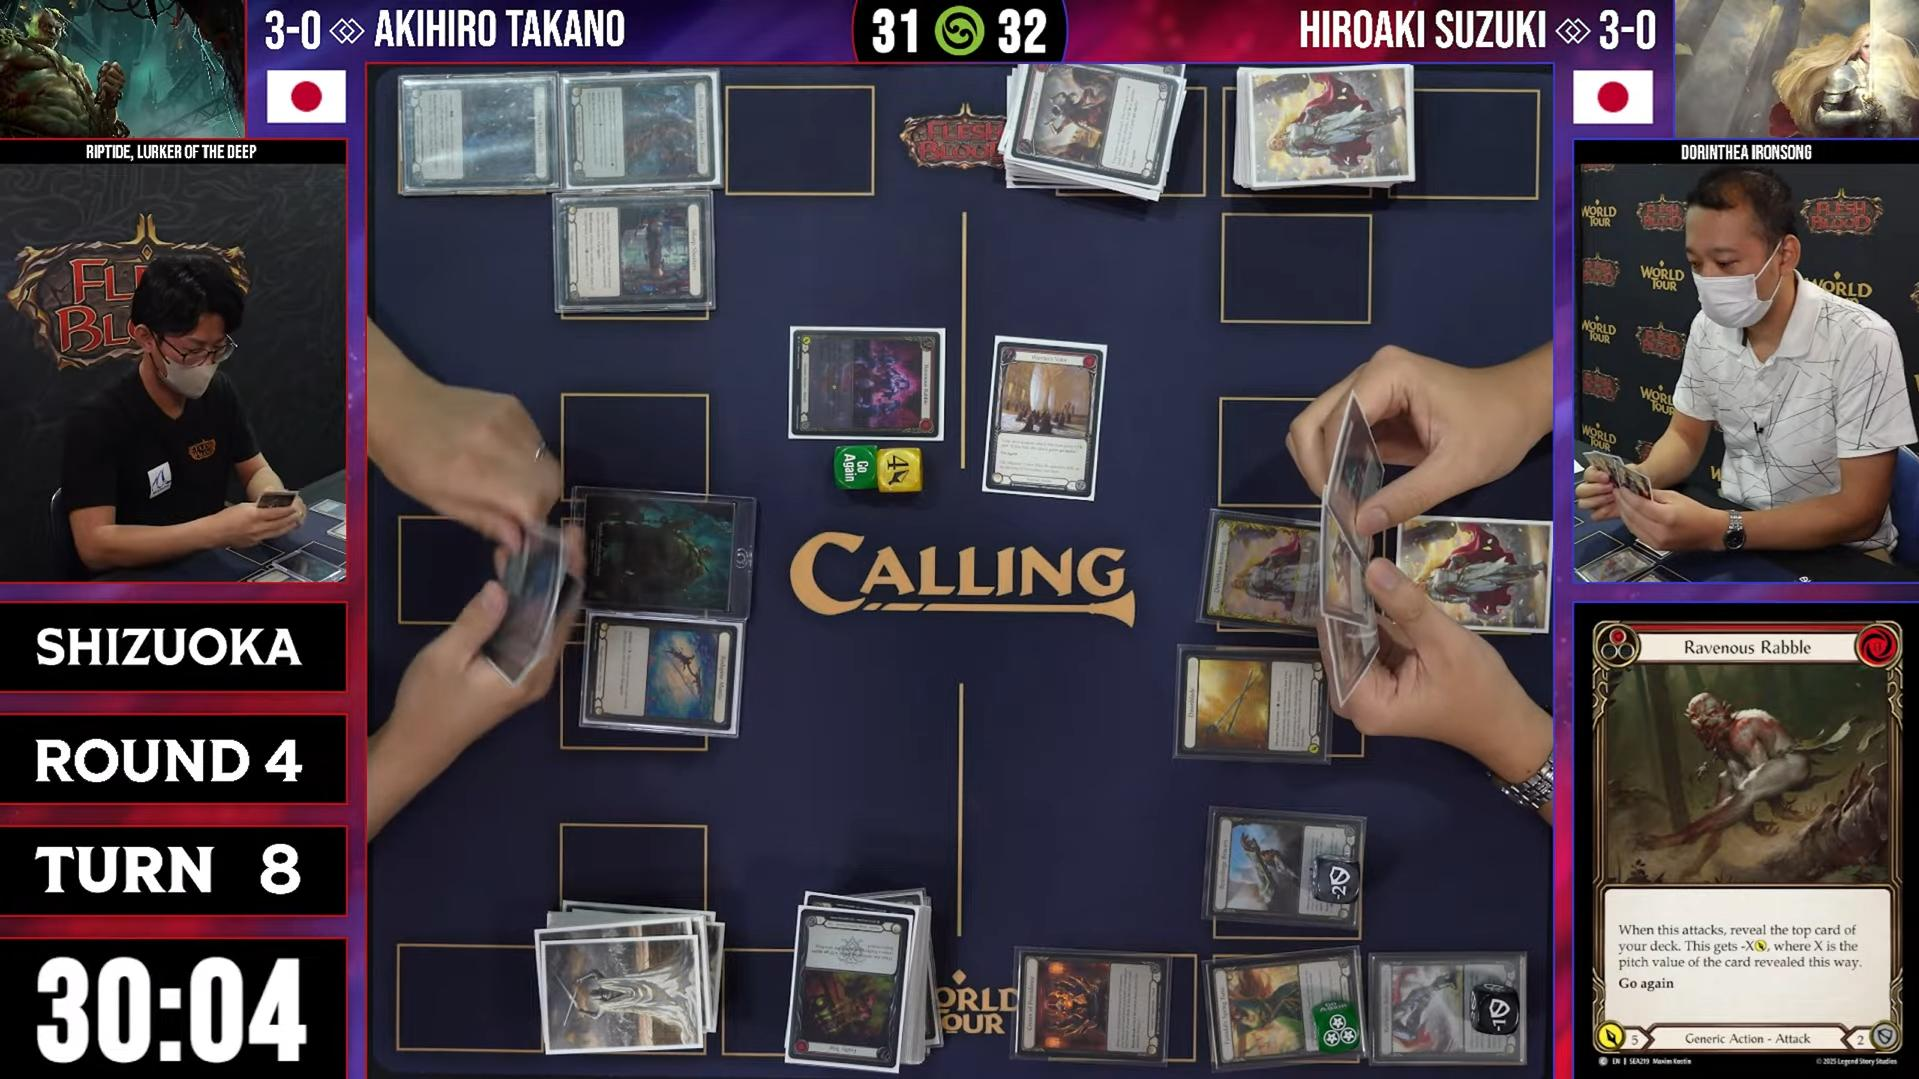Card: (1580, 618, 1916, 1055), (569, 486, 754, 618), (536, 918, 714, 1054), (999, 58, 1180, 188), (1197, 800, 1369, 934), (784, 896, 920, 1065), (981, 332, 1112, 501), (1006, 945, 1174, 1070), (395, 70, 561, 196), (576, 617, 750, 736), (1202, 946, 1368, 1070), (554, 188, 710, 314), (1173, 642, 1334, 763), (1369, 949, 1533, 1067), (561, 69, 714, 192), (1388, 519, 1549, 628), (787, 324, 938, 440), (1195, 510, 1318, 631)
